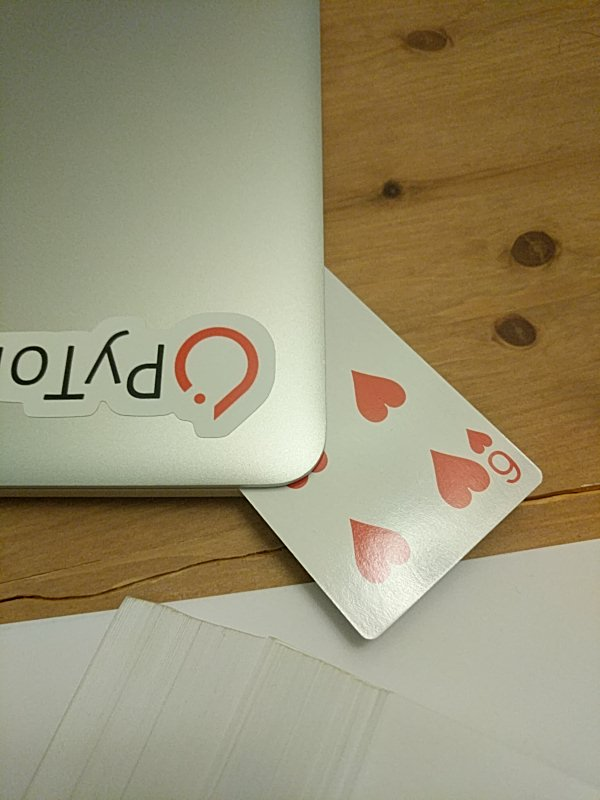Hearts: (239, 270, 544, 639)
